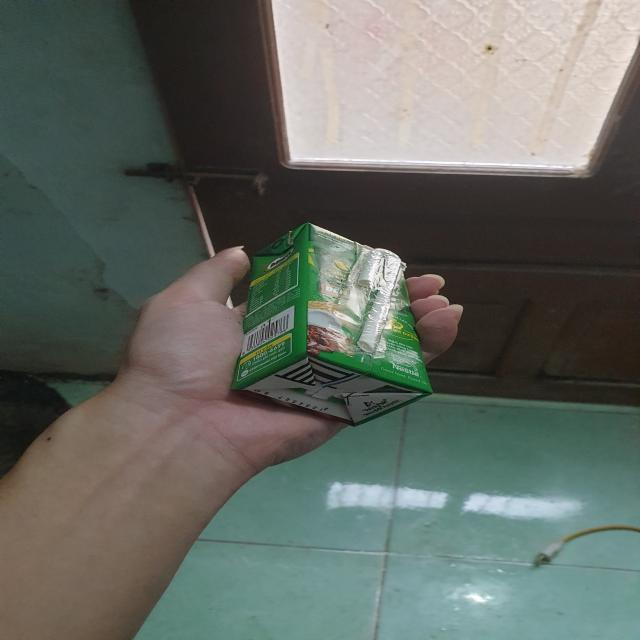Milo: (228, 222, 437, 429)
